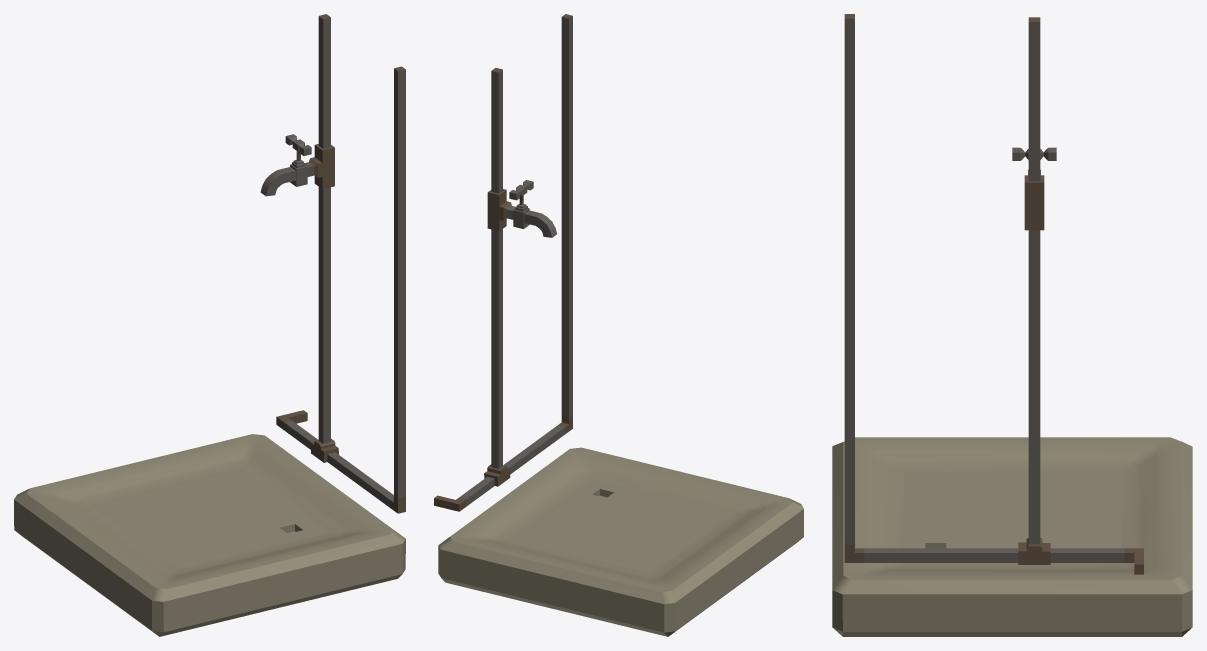
Rendered from 03douche_skeer_nieuwestijl.fbx.
3 renders of one model, left to right at view 1: azimuth 30°, elevation 25°; view 2: azimuth 150°, elevation 25°; view 3: azimuth 270°, elevation 25°, orthographic. The views are drawn at different scales.
Visible parts, largest first — view 1: pCube589; view 2: pCube589; view 3: pCube589.
Part boxes in pixels (<box>): pCube589: <box>14,14,405,636</box>; pCube589: <box>434,14,803,636</box>; pCube589: <box>832,14,1192,636</box>.
Bounding box in the file's own units: 2.45 × 4.34 × 2.27.
